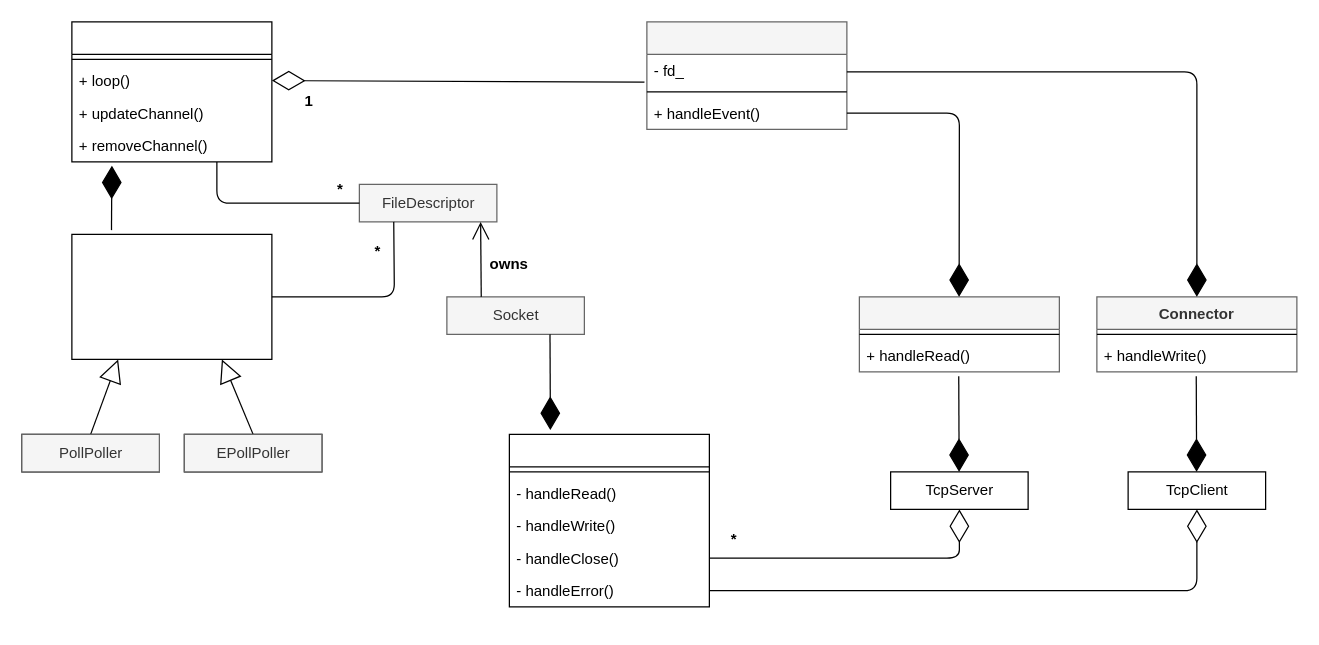
Image size: 1319x645. Some labels were removed from this diagram. The box of each missing label's shape, as (x1, y1, x2, y2) in pixels:
<<Interface>> Poller + poll() + updateChannel() + removeChannel(): (71, 233, 272, 359)
Acceptor: (858, 296, 1059, 372)
Channel: (646, 21, 847, 129)
EventLoop: (71, 21, 272, 162)
TcpConnection: (508, 433, 709, 607)
